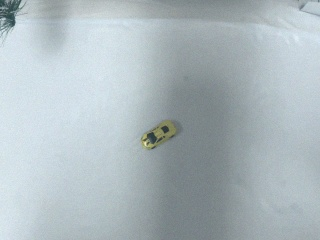toy_car: (142, 120, 176, 150)
